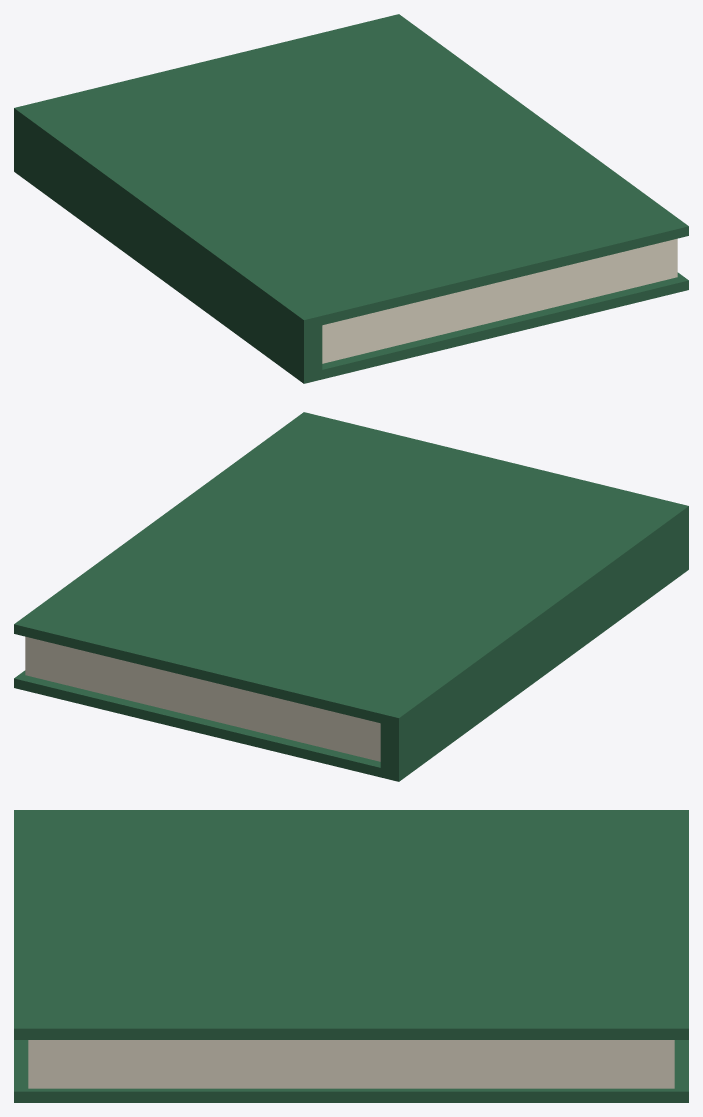
Rendered from Prop_VisitorBook.fbx.
The picture shows the model from 3 angles, top to bottom: view 1: azimuth 30°, elevation 25°; view 2: azimuth 150°, elevation 25°; view 3: azimuth 270°, elevation 25°; orthographic projection. The views are drawn at different scales.
Visible parts, largest first — view 1: VisitorBook_Cover, VisitorBook_Pages; view 2: VisitorBook_Cover, VisitorBook_Pages; view 3: VisitorBook_Cover, VisitorBook_Pages.
Part boxes in pixels (<box>): VisitorBook_Cover: <box>14,14,688,383</box>; VisitorBook_Pages: <box>322,238,677,363</box>; VisitorBook_Cover: <box>14,412,688,781</box>; VisitorBook_Pages: <box>25,636,380,761</box>; VisitorBook_Cover: <box>14,810,688,1102</box>; VisitorBook_Pages: <box>28,1040,674,1088</box>.
Size of the model in its own units: 0.253 by 0.04 by 0.33.
